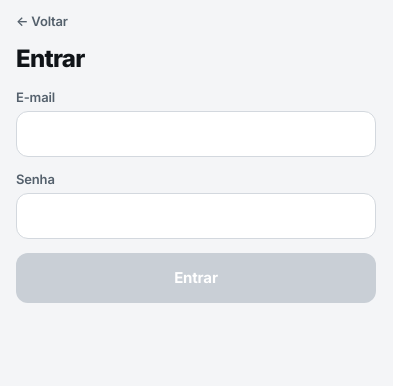
Test: login por e-mail › senha errada não entra e diz o porquê
The image size is (393, 386).
In the field labelled "E-mail": coordinates (196, 134) [16, 111, 376, 157], type "aluno@example.com"
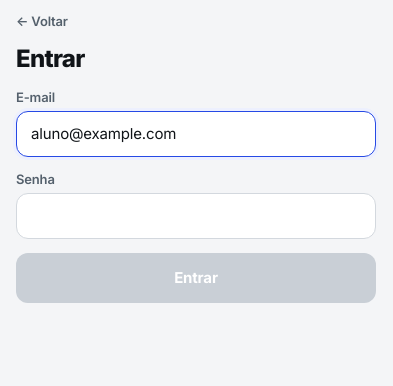
In the password field labelled "Senha": coordinates (196, 216) [16, 193, 376, 239], type "chute-errado"
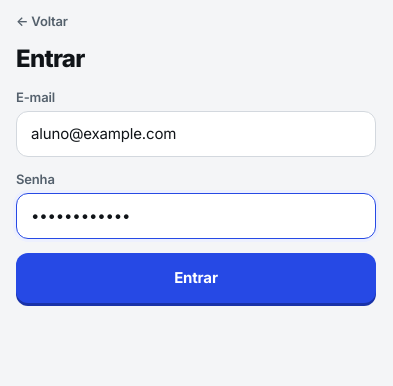
Click the button "Entrar": coordinates (196, 278) [16, 253, 376, 303]
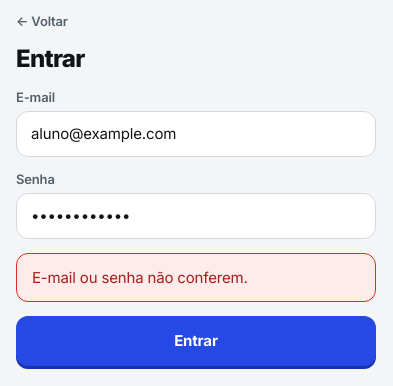
Expected: the message shows "não conferem", [32, 268, 248, 287]
